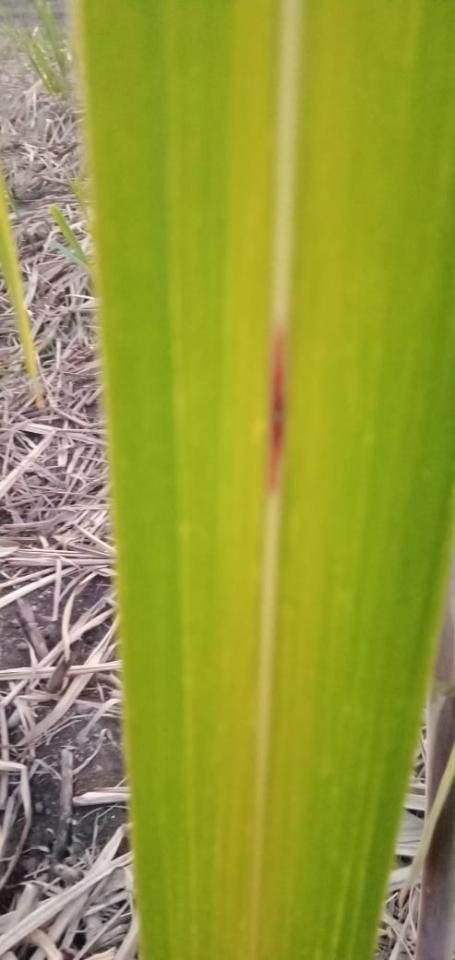Rust: (269, 322, 289, 490)
Yellow: (261, 3, 418, 959), (153, 0, 283, 959)
